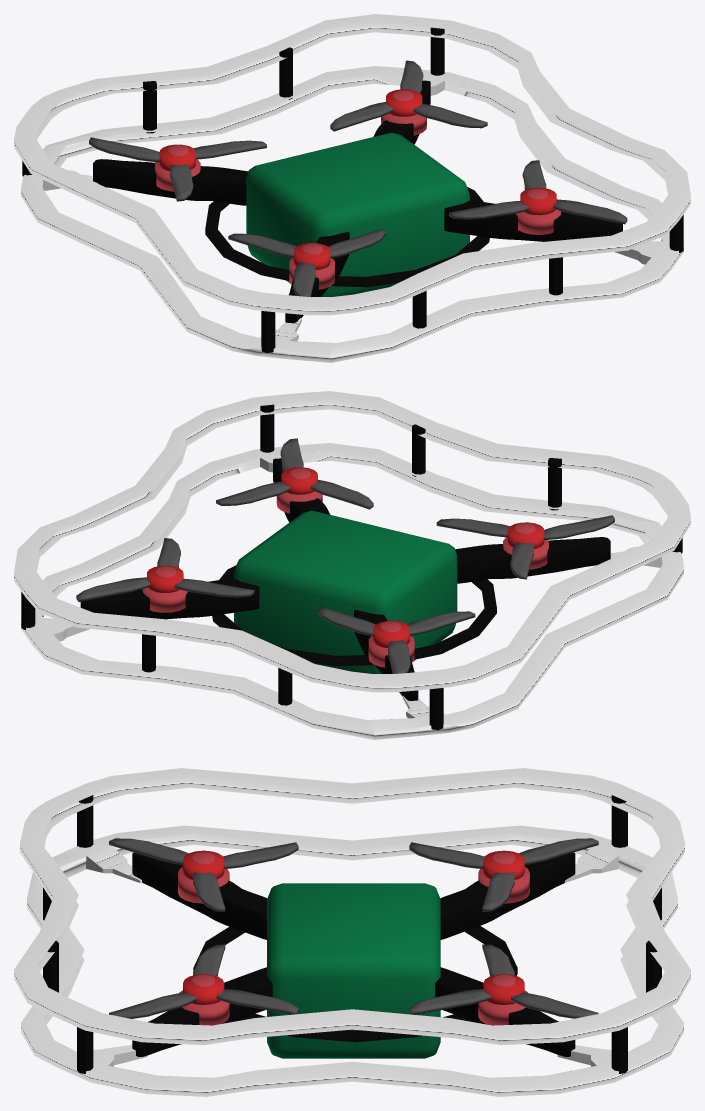
Rendered from Киберкоптер.fbx.
The picture shows the model from 3 angles, top to bottom: view 1: azimuth 30°, elevation 25°; view 2: azimuth 150°, elevation 25°; view 3: azimuth 270°, elevation 25°; orthographic projection. The views are drawn at different scales.
Parts seen in each view (by area): view 1: Cylinder.001, Cylinder, Cube, Plane.001, Cube.001, Cylinder.005, Cylinder.006, Cylinder.003, Cylinder.004, Cylinder.002, Cylinder.007; view 2: Cylinder.001, Cylinder, Cube, Plane.001, Cube.001, Cylinder.005, Cylinder.006, Cylinder.003, Cylinder.004, Cylinder.002, Cylinder.007; view 3: Cylinder.001, Cylinder, Cube, Cube.001, Plane.001, Cylinder.006, Cylinder.002, Cylinder.004, Cylinder.005, Cylinder.003, Cylinder.007.
Part boxes in pixels (x1=…): Cylinder.001: x1=14, y1=14, x2=690, y2=315; Cylinder: x1=21, y1=66, x2=683, y2=362; Cube: x1=246, y1=133, x2=469, y2=296; Plane.001: x1=89, y1=60, x2=627, y2=296; Cube.001: x1=93, y1=80, x2=622, y2=323; Cylinder.005: x1=205, y1=187, x2=489, y2=287; Cylinder.006: x1=159, y1=89, x2=556, y2=269; Cylinder.003: x1=143, y1=47, x2=562, y2=328; Cylinder.004: x1=155, y1=113, x2=561, y2=289; Cylinder.002: x1=22, y1=27, x2=683, y2=352; Cylinder.007: x1=168, y1=90, x2=547, y2=254; Cylinder.001: x1=14, y1=391, x2=690, y2=692; Cylinder: x1=21, y1=443, x2=683, y2=739; Cube: x1=234, y1=510, x2=457, y2=673; Plane.001: x1=76, y1=438, x2=614, y2=673; Cube.001: x1=80, y1=458, x2=610, y2=700; Cylinder.005: x1=212, y1=565, x2=496, y2=666; Cylinder.006: x1=147, y1=467, x2=544, y2=647; Cylinder.003: x1=142, y1=424, x2=561, y2=705; Cylinder.004: x1=142, y1=491, x2=548, y2=667; Cylinder.002: x1=21, y1=404, x2=682, y2=729; Cylinder.007: x1=156, y1=468, x2=535, y2=632; Cylinder.001: x1=14, y1=768, x2=690, y2=1045; Cylinder: x1=21, y1=825, x2=683, y2=1096; Cube: x1=267, y1=883, x2=440, y2=1058; Cube.001: x1=132, y1=852, x2=575, y2=1056; Plane.001: x1=109, y1=838, x2=598, y2=1018; Cylinder.006: x1=183, y1=850, x2=524, y2=1004; Cylinder.002: x1=77, y1=795, x2=627, y2=1073; Cylinder.004: x1=178, y1=867, x2=529, y2=1025; Cylinder.005: x1=193, y1=926, x2=517, y2=1042; Cylinder.003: x1=43, y1=887, x2=661, y2=992; Cylinder.007: x1=192, y1=852, x2=515, y2=986.
Size of the model in its own units: 394 by 80.78 by 421.
